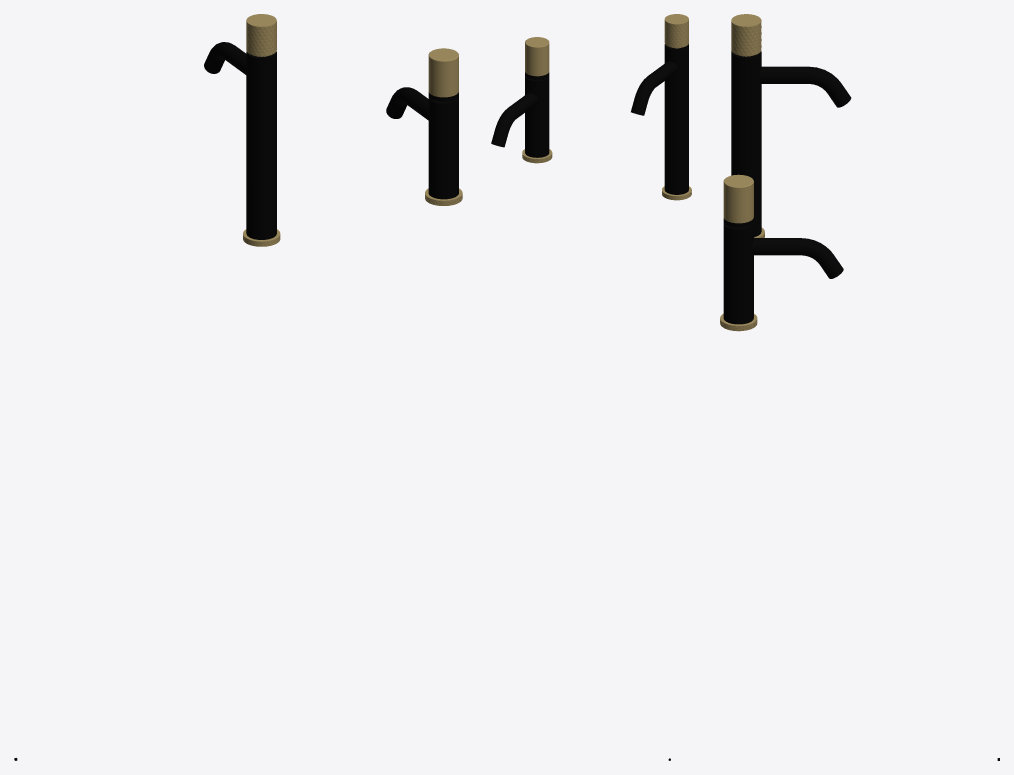
Rendered from STICK_BOHEME_02.glb.
3 views of the same model, side by side, from view 1: azimuth 30°, elevation 25°; view 2: azimuth 150°, elevation 25°; view 3: azimuth 270°, elevation 25° (orthographic). The views are drawn at different scales.
Visible parts, largest first — view 1: Group004, 121 marble, Group003; view 2: Group004, 121 marble, Group003; view 3: Group004, 121 marble, Group003.
Boxes of the visible parts, x1,y1,x2,y2 form: Group004: (204,14,280,246); 121 marble: (386,87,458,199); Group003: (425,48,462,205); Group004: (631,14,691,200); 121 marble: (491,72,549,157); Group003: (522,37,552,163); Group004: (731,14,851,237); 121 marble: (723,217,843,324); Group003: (720,174,757,331).
Bounding box in the file's own units: 0.4975 × 1.22 × 0.3871.
